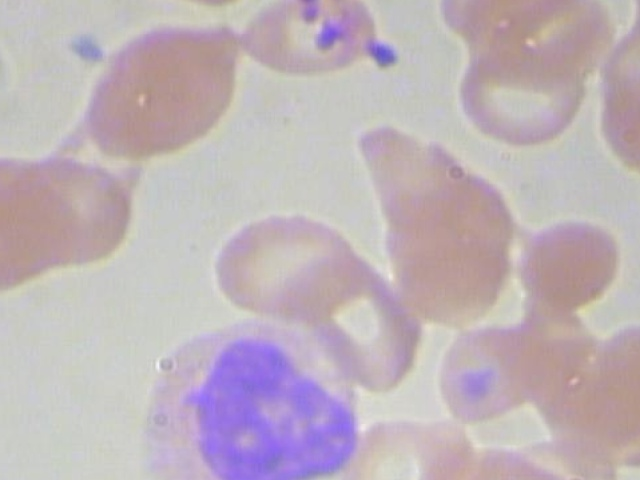Platelets: (61, 24, 110, 70), (362, 36, 404, 74)
RBC: (73, 14, 249, 167), (208, 210, 356, 320), (453, 45, 591, 150), (431, 314, 550, 427), (0, 142, 77, 295), (235, 0, 388, 76), (505, 215, 624, 312), (331, 418, 449, 480), (445, 435, 583, 480), (597, 66, 640, 189)
WBC: (108, 309, 377, 480)
